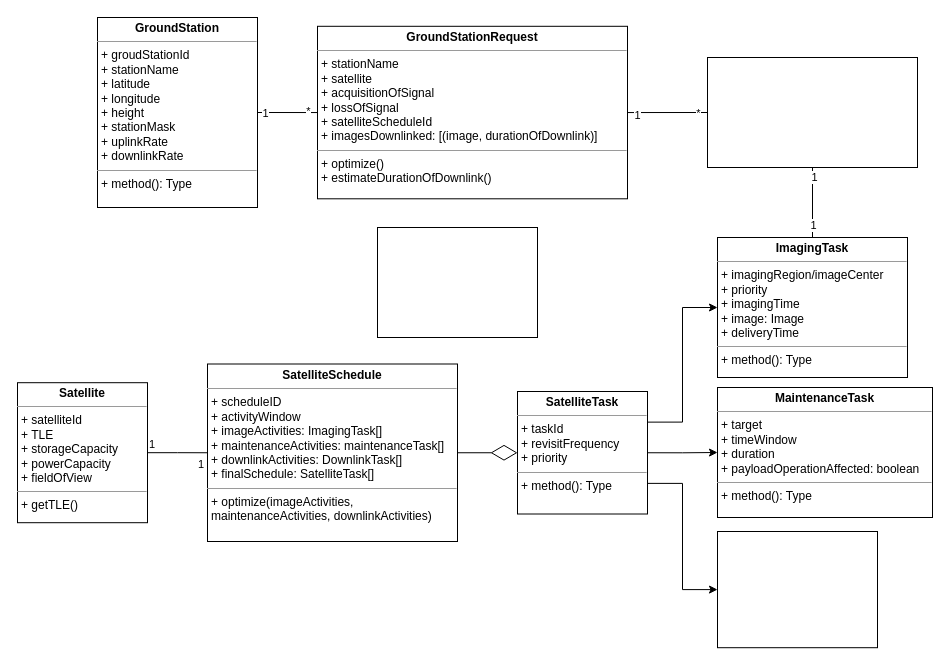
This 950x666 diagram has some shape labels left out. Each missing label, with the centre of its shape:
"DownlinkTask + imageId + downlinkStart + downlinkEnd + method(): Type" goes at (797,589).
"Image + imageId + imageSize + imageType + estimateImageSize(imageType)" goes at (812,112).
"Outage + target + startTime + endTime + method(): Type" goes at (457,282).
